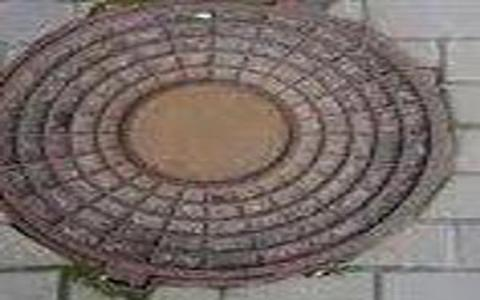proper manhole: (1, 1, 456, 288)
